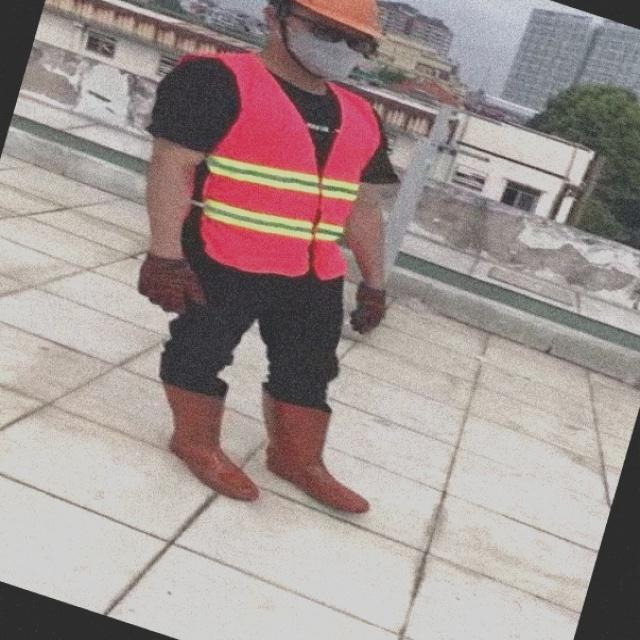helmet: (299, 0, 383, 38)
safety_vest: (174, 44, 356, 277)
